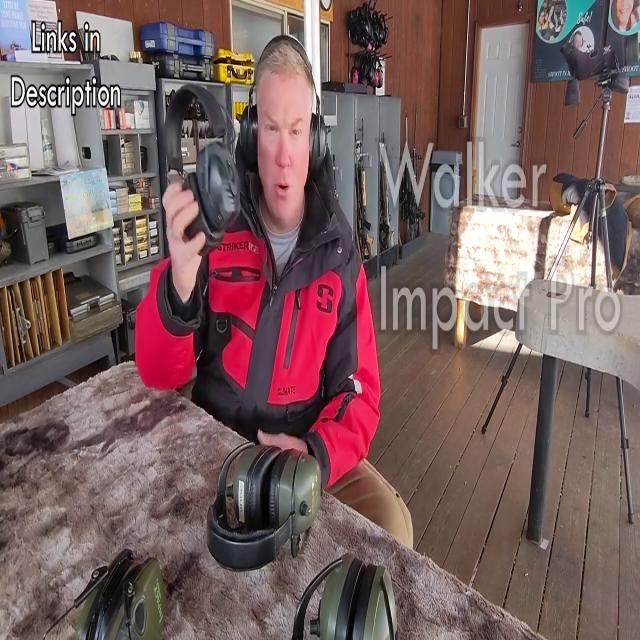earmuff: (196, 138, 246, 232), (307, 109, 334, 179), (238, 104, 263, 176)
